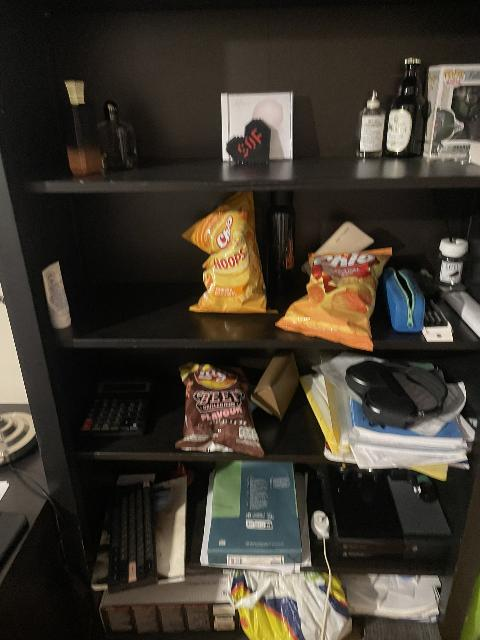Chio Cascaval 125g: (274, 246, 394, 350)
Chio Hula Hoops Cheese 70g: (183, 191, 277, 315)
Lays Beef Grilled Ribs 125g: (175, 362, 264, 456)
